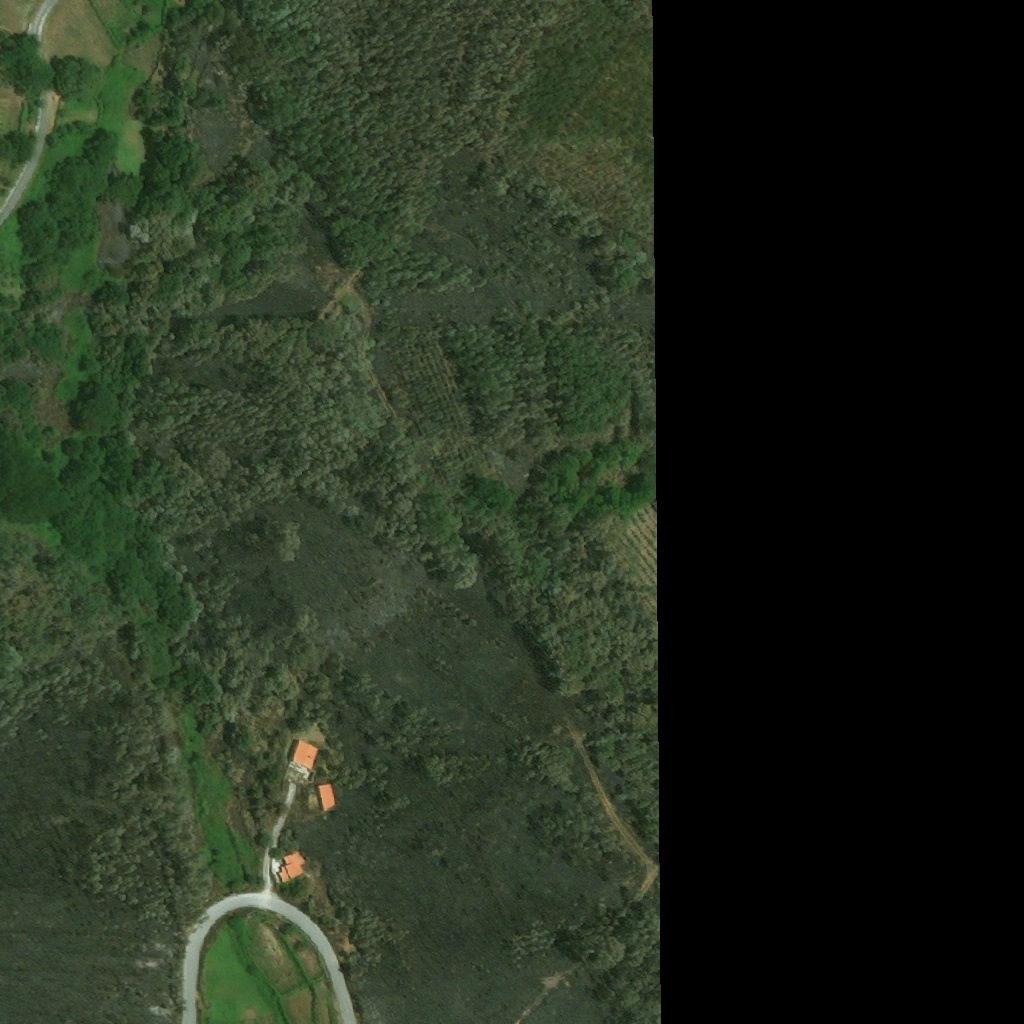0 no-damage: (273, 848, 311, 886), (288, 738, 321, 771), (318, 782, 337, 811)
